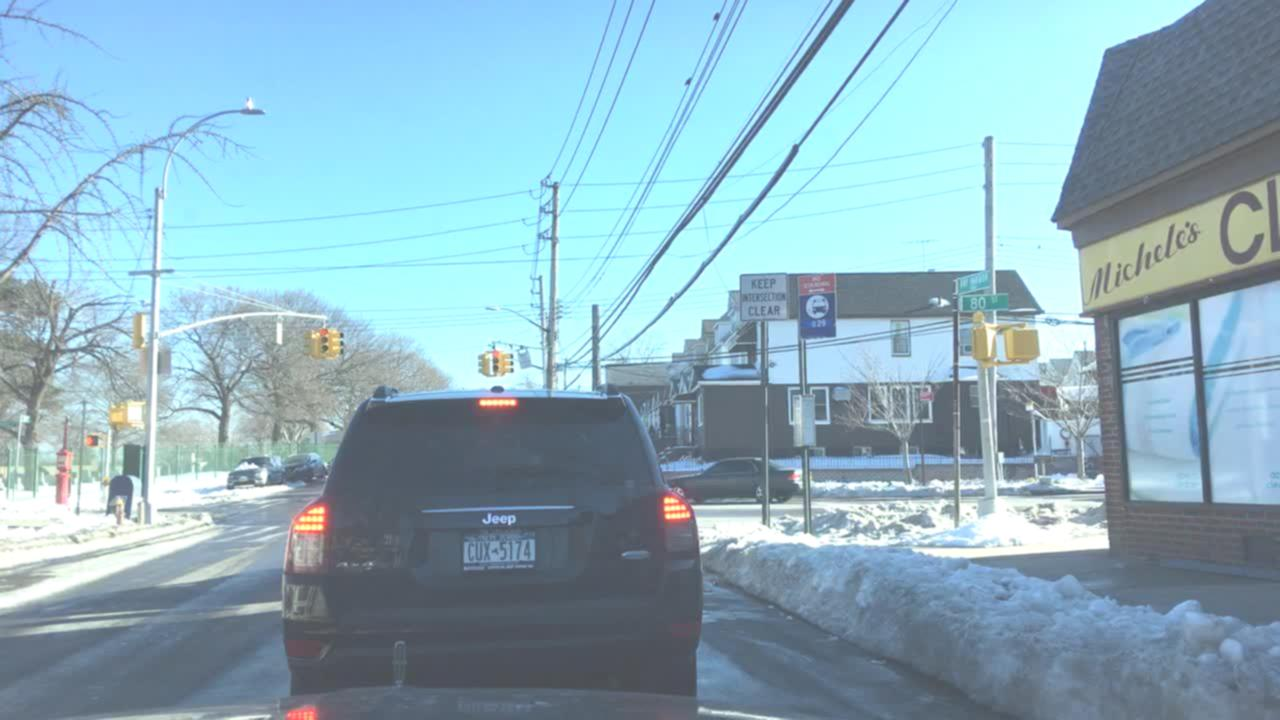jeep: (476, 505, 521, 532)
